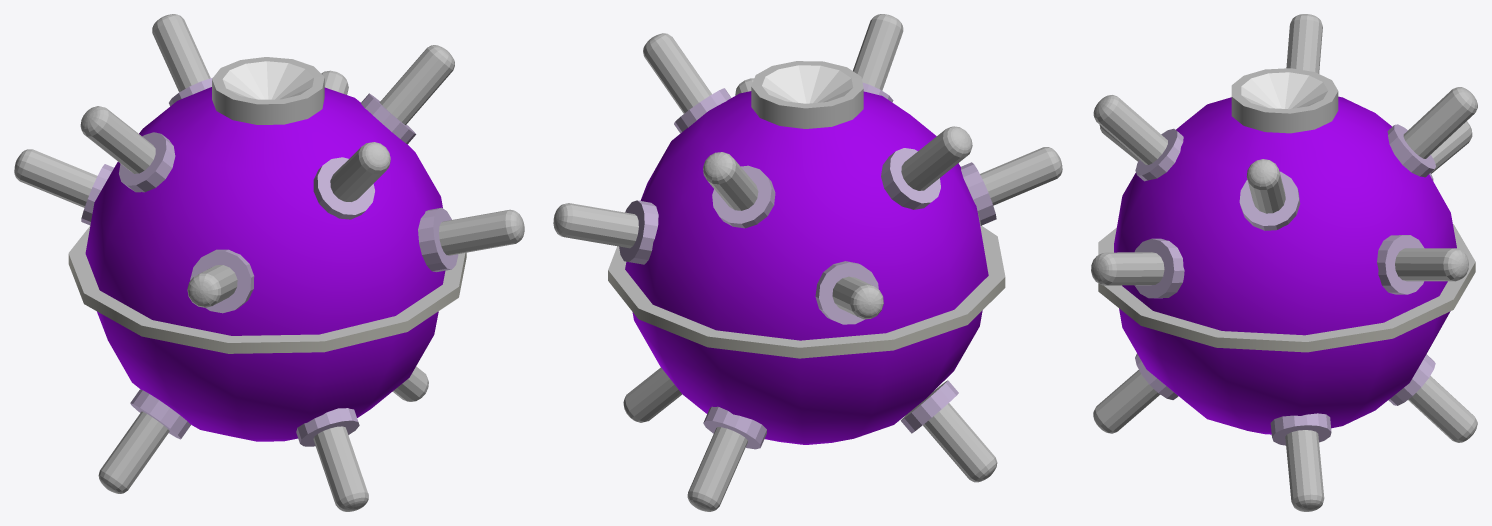
File: purple-bomb.fbx
3 views of the same model, side by side, from view 1: azimuth 30°, elevation 25°; view 2: azimuth 150°, elevation 25°; view 3: azimuth 270°, elevation 25° (orthographic). The views are drawn at different scales.
Parts seen in each view (by area): view 1: Sphere.002; view 2: Sphere.002; view 3: Sphere.002.
Part boxes in pixels (x1,y1,x2,y2): Sphere.002: [14, 14, 524, 511]; Sphere.002: [553, 14, 1062, 511]; Sphere.002: [1091, 14, 1477, 511].
Bounding box in the file's own units: 220 × 222 × 221.
